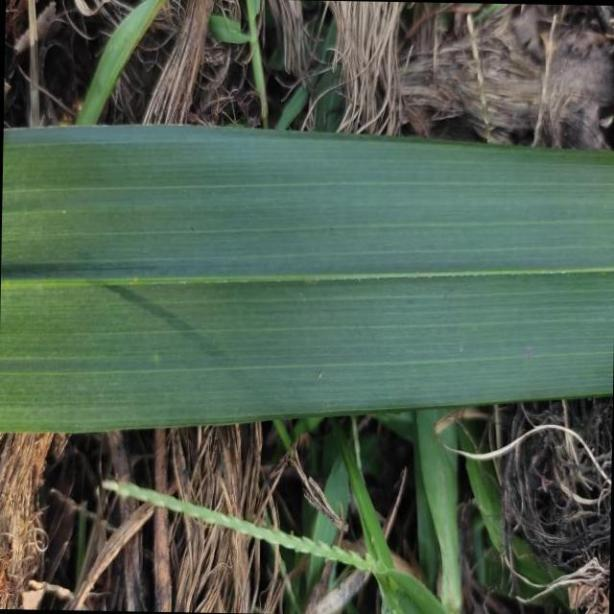Healthy: (0, 126, 614, 434)
